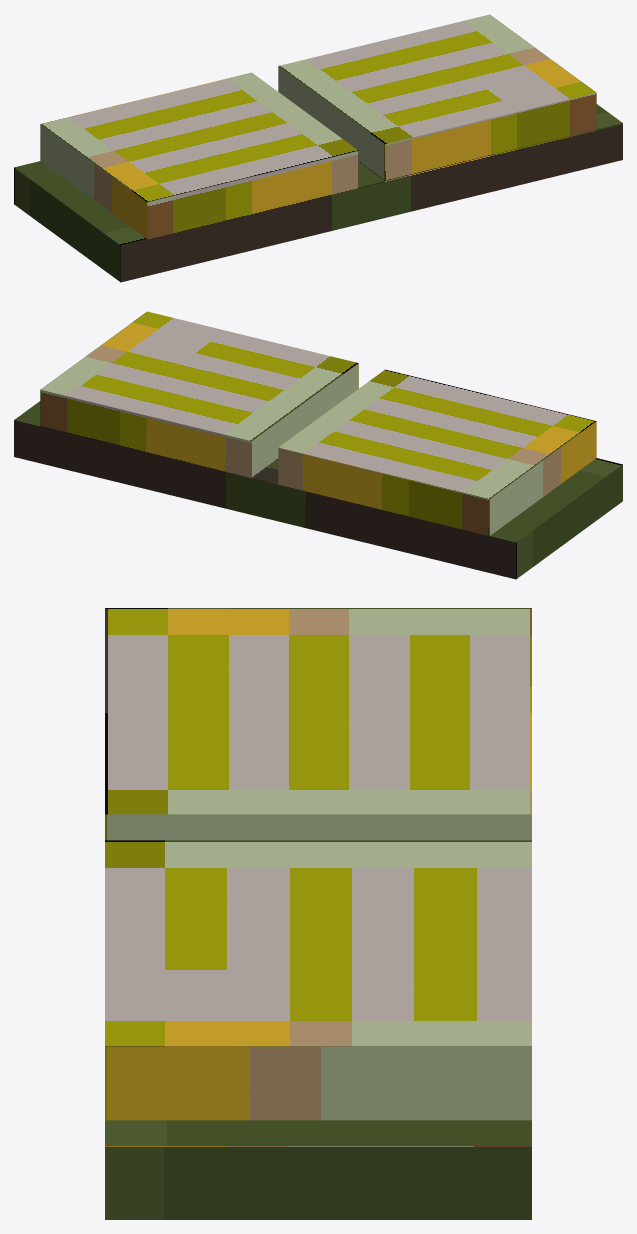
The model's file is book_0x282_09.glb.
The picture shows the model from 3 angles, top to bottom: view 1: azimuth 30°, elevation 25°; view 2: azimuth 150°, elevation 25°; view 3: azimuth 270°, elevation 25°; orthographic projection. The views are drawn at different scales.
Parts seen in each view (by area): view 1: Cube; view 2: Cube; view 3: Cube.
Part boxes in pixels (x1=…): Cube: x1=14, y1=14, x2=622, y2=282; Cube: x1=14, y1=311, x2=622, y2=579; Cube: x1=105, y1=608, x2=531, y2=1219.
Size of the model in its own units: 1.19 by 0.1667 by 0.4375.
1 material, 1 textured.
